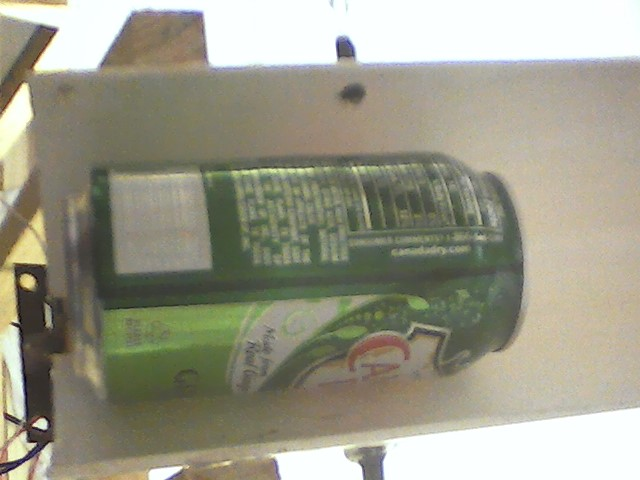lata: (60, 146, 537, 412)
